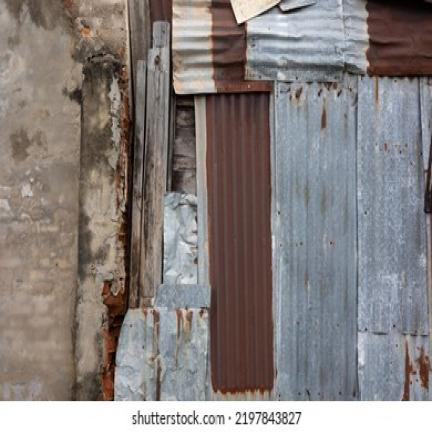karat: (207, 0, 273, 394), (366, 0, 431, 75), (403, 341, 428, 401)
